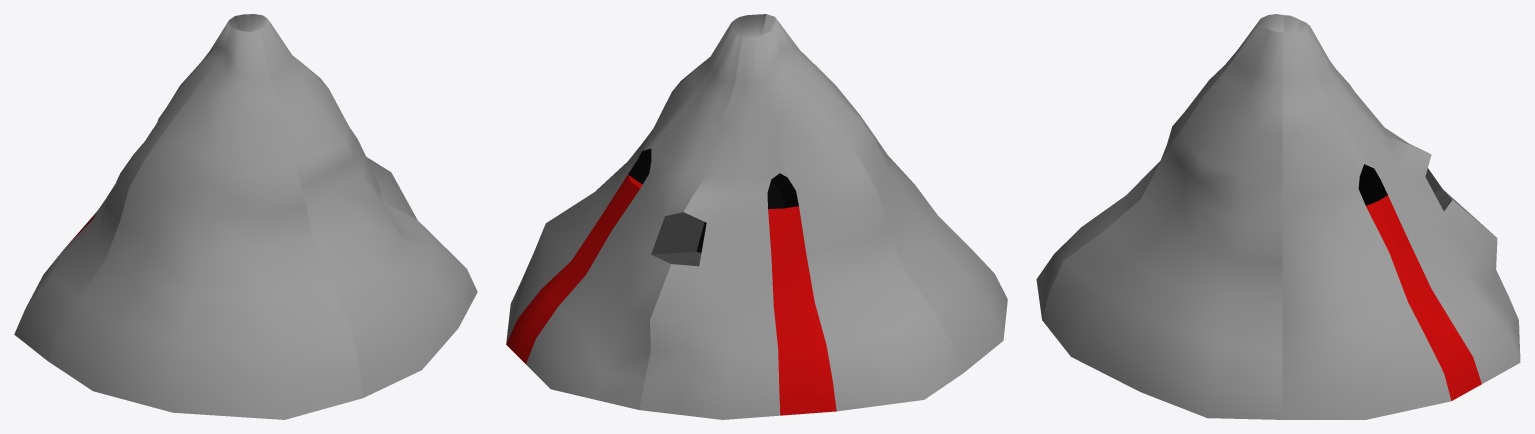
File: Volcan.fbx
The picture shows the model from 3 angles, left to right: view 1: azimuth 30°, elevation 25°; view 2: azimuth 150°, elevation 25°; view 3: azimuth 270°, elevation 25°; orthographic projection. The views are drawn at different scales.
Visible parts, largest first — view 1: pPyramid1; view 2: pPyramid1; view 3: pPyramid1.
Boxes of the visible parts, left/top/right/bottom form: pPyramid1: left=14, top=14, right=477, bottom=419; pPyramid1: left=506, top=14, right=1007, bottom=419; pPyramid1: left=1036, top=14, right=1520, bottom=419.
Size of the model in its own units: 52.03 by 36.37 by 53.3.
